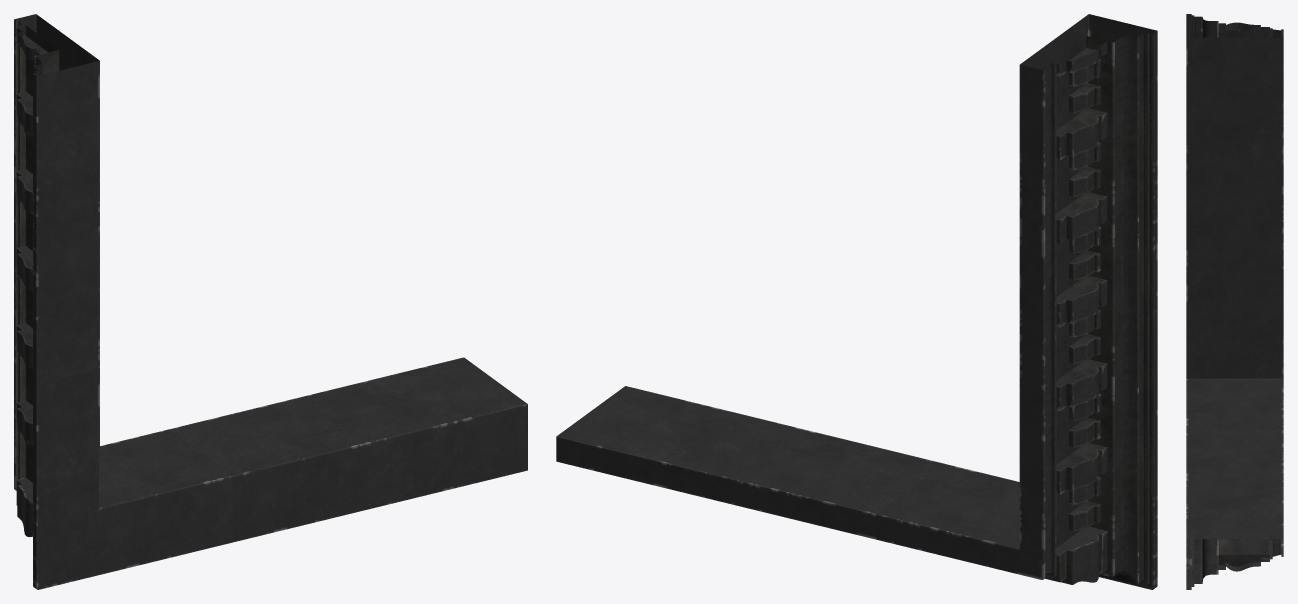
The model's file is crown_standard_corner_large_01.gltf.
The picture shows the model from 3 angles, left to right: view 1: azimuth 30°, elevation 25°; view 2: azimuth 150°, elevation 25°; view 3: azimuth 270°, elevation 25°; orthographic projection. The views are drawn at different scales.
Parts seen in each view (by area): view 1: crown_standard_corner_large_01; view 2: crown_standard_corner_large_01; view 3: crown_standard_corner_large_01.
Part boxes in pixels (x1=…): crown_standard_corner_large_01: x1=14, y1=14, x2=527, y2=589; crown_standard_corner_large_01: x1=556, y1=14, x2=1157, y2=589; crown_standard_corner_large_01: x1=1186, y1=14, x2=1283, y2=589.
Bounding box in the file's own units: 3.33 × 3.33 × 0.75.
1 material, 1 textured.
